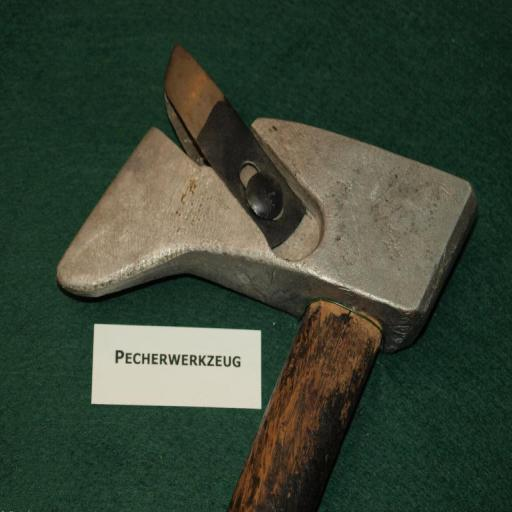Axe: (57, 34, 475, 512)
